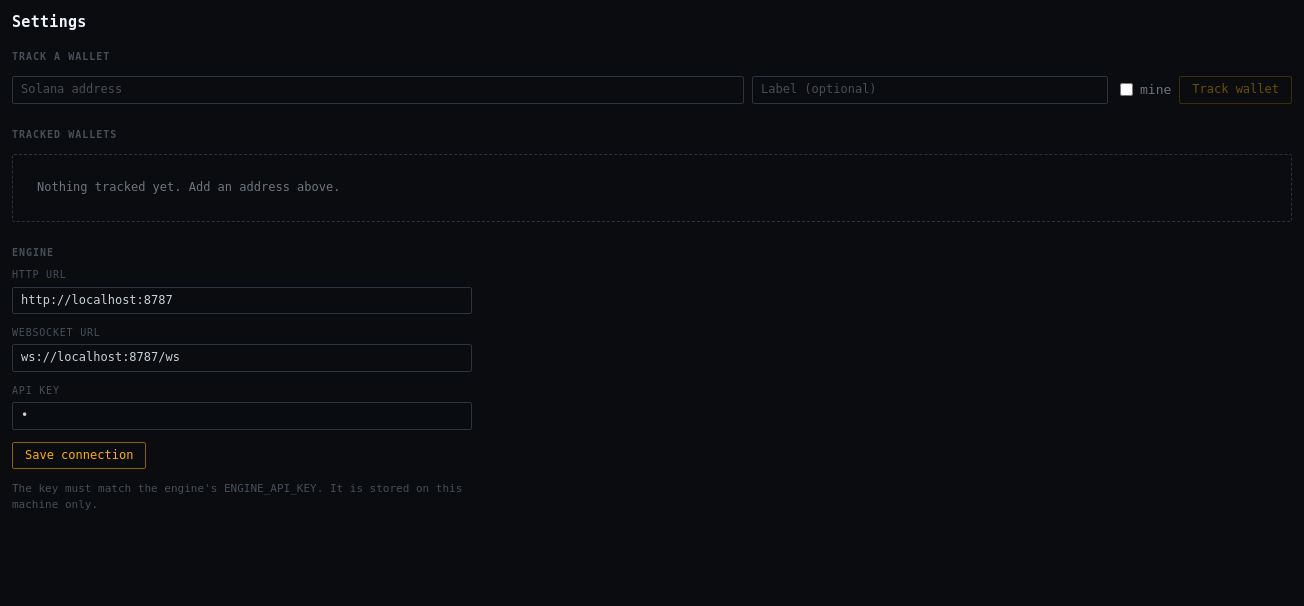
SettingsTab › shows why the engine refused, and keeps what was typed
In the field labelled "Solana address": (378, 90) [12,76,744,104], type "BBBB2222222222222222222222222222222222222222"
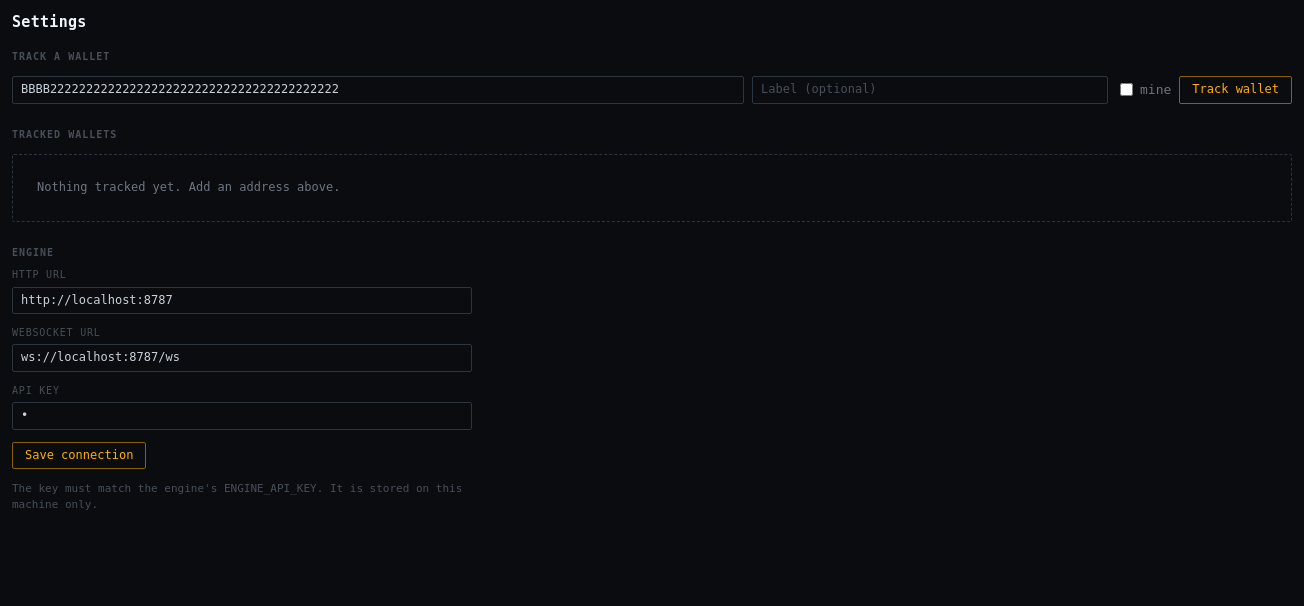
Click the button "Track wallet": (1236, 90) [1179,76,1292,104]
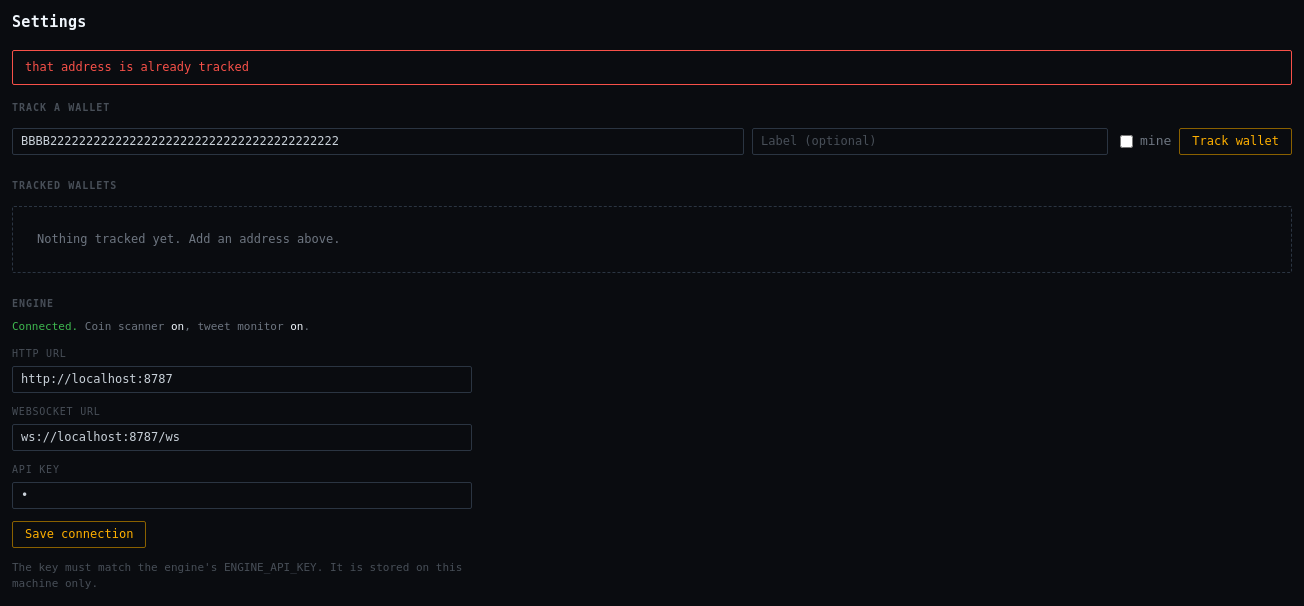
Now the text "that address is already tracked" is shown, box [12,50,1292,85]
